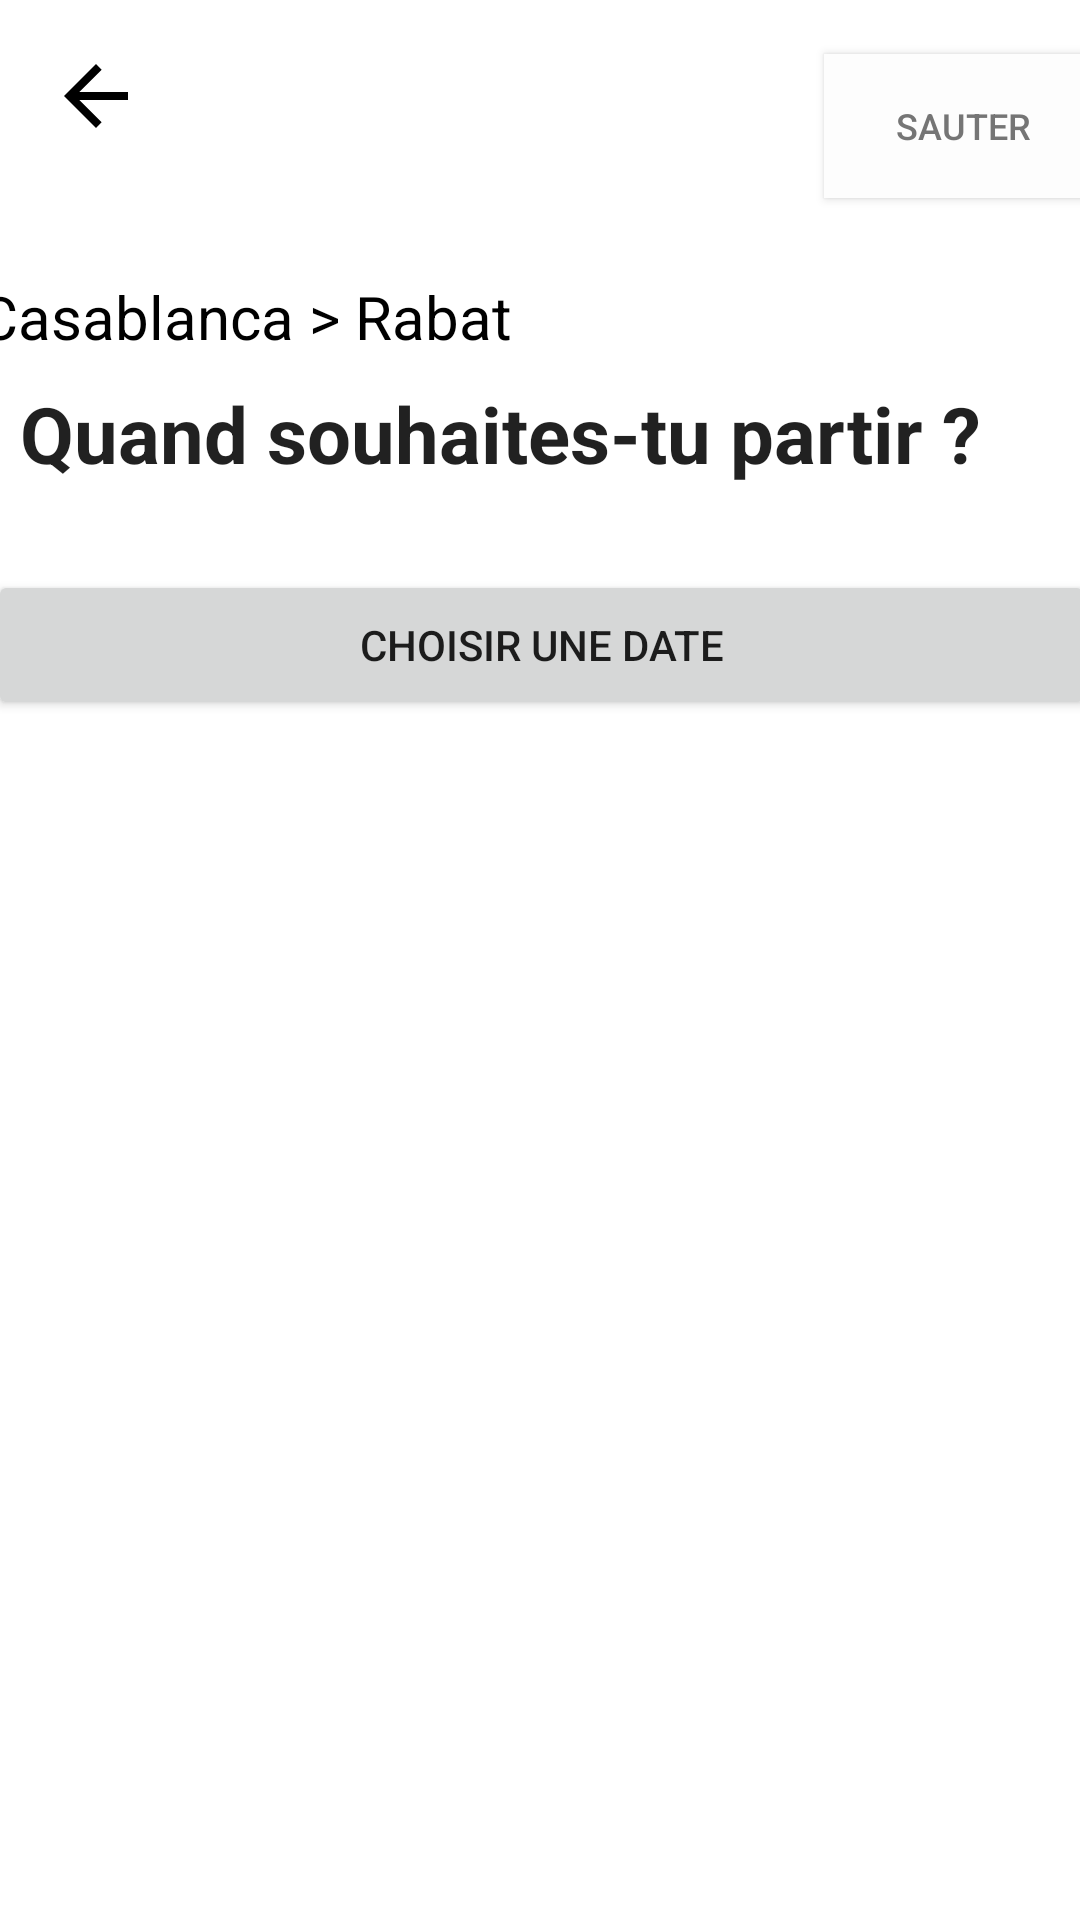

Icons on this 1080 × 1920 Android screen, each with the point to tap as (x=x, y=y):
Retour: (x=96, y=96)
